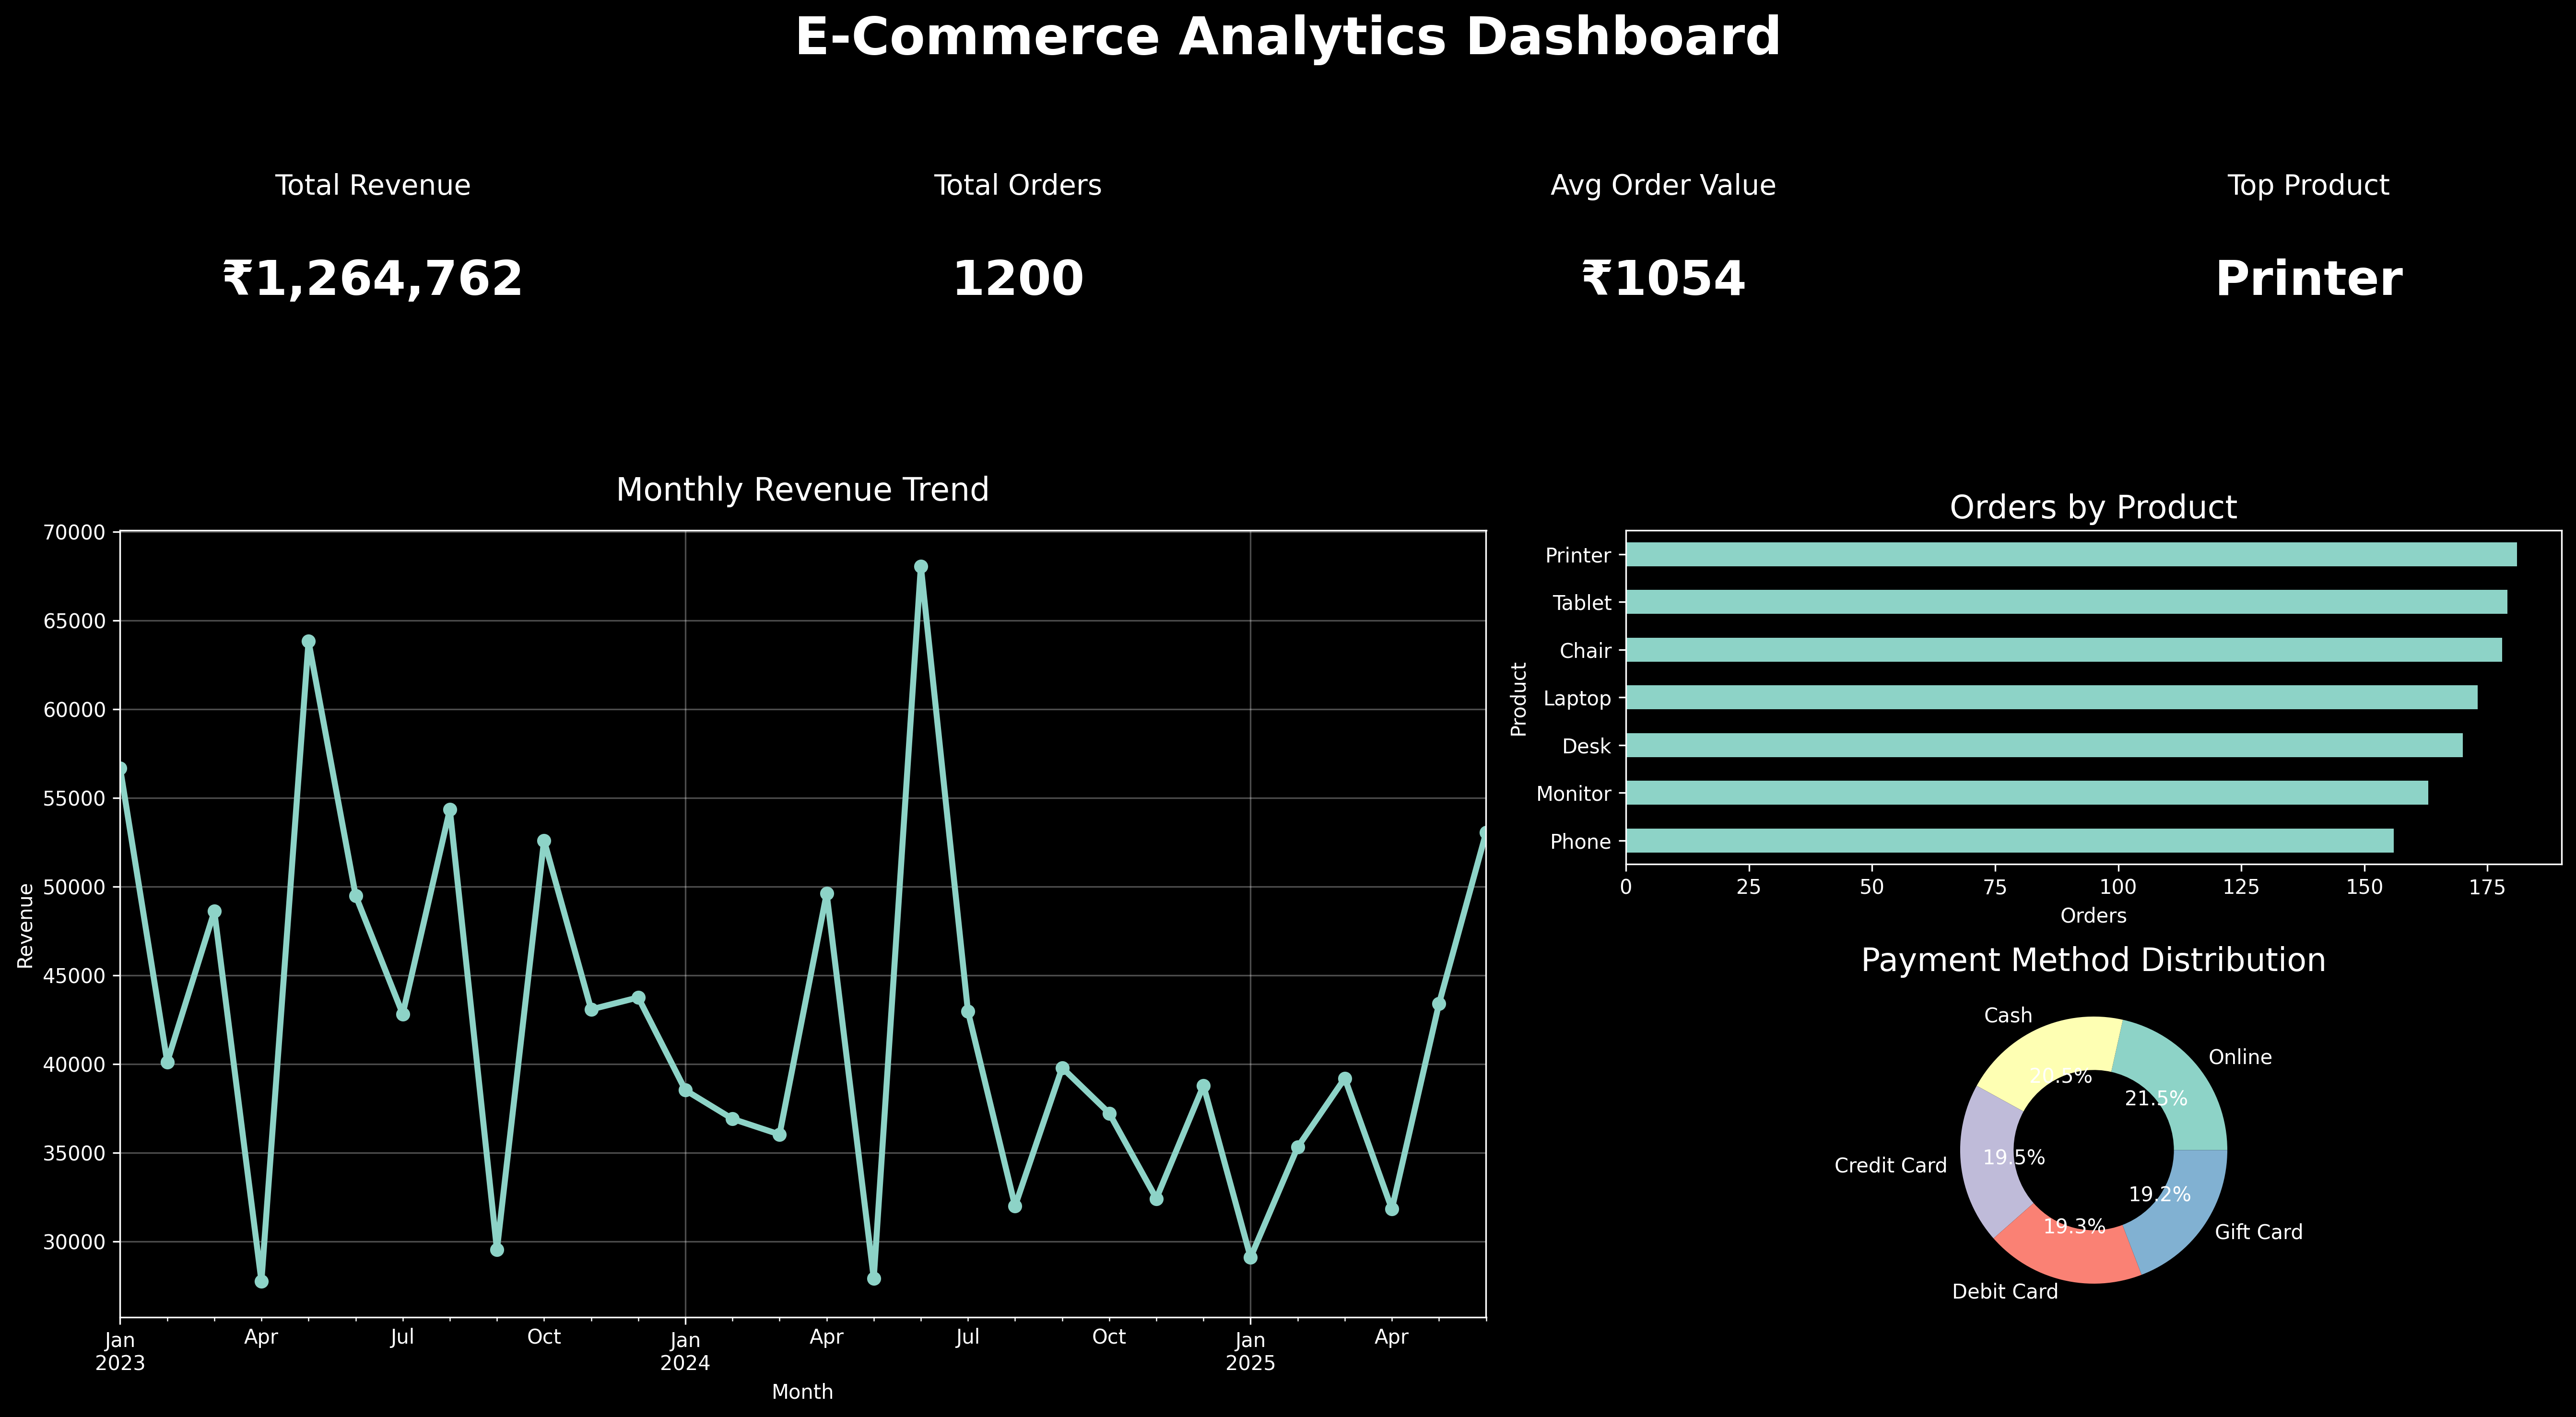

Layout of this report page (visuals, bound fields, positions):
{"tool":"powerbi","page":{"name":"Page 1","canvas":[1280,720],"ordinal":0},"visuals":[{"type":"cardVisual","fields":{"Data":["Sum(Sheet1.TotalPrice)"]},"box":[34.3,88.6,184.3,110],"z":0},{"type":"cardVisual","fields":{"Data":["Sheet1.Total Orders"]},"box":[218.6,88.6,178.6,110],"z":1000},{"type":"cardVisual","fields":{"Data":["Sheet1.Total Customers"]},"box":[380,88.6,237.1,110],"z":2000},{"type":"cardVisual","fields":{"Data":["Sheet1.Quantity Sold"]},"box":[811.4,88.6,225.7,110],"z":3000},{"type":"cardVisual","fields":{"Data":["Sheet1.Average Order Value"]},"box":[580,88.6,262.9,110],"z":4000},{"type":"lineChart","title":"Monthly Revenue Trend","fields":{"Y":["Sum(Sheet1.TotalPrice)"],"Category":["Sheet1.Month Year"]},"box":[0,190,1280,160],"z":5000},{"type":"clusteredBarChart","title":"Top Products by Revenue","fields":{"Category":["Sheet1.Product"],"Y":["Sum(Sheet1.TotalPrice)"]},"box":[0,350,740,370],"z":6000},{"type":"donutChart","title":"Revenue by Payment Method","fields":{"Category":["Sheet1.PaymentMethod"],"Y":["Sum(Sheet1.TotalPrice)"]},"box":[740,532.9,340,187.1],"z":7000},{"type":"donutChart","title":"Revenue by Marketing Channel","fields":{"Category":["Sheet1.ReferralSource"],"Y":["Sum(Sheet1.TotalPrice)"]},"box":[740,350,340,182.9],"z":8000},{"type":"slicer","fields":{"Values":["Sheet1.OrderStatus"]},"box":[1124.3,350,155.7,182.9],"z":9000},{"type":"slicer","fields":{"Values":["Sheet1.PaymentMethod"]},"box":[1124.3,532.9,155.7,187.1],"z":10000},{"type":"textbox","box":[0,0,1280,57.1],"z":11000},{"type":"cardVisual","fields":{"Data":["Sheet1.Average Revenue Per Customer"]},"box":[1002.9,82.9,277.1,115.7],"z":12000},{"type":"textbox","box":[0,47.1,1280,35.7],"z":12001}]}

Visuals, with their boxes in screenshot pixels (x1, y1, x2, y2), scaled from the page's 1280x720 canvas onto the 2576x1417 screenshot:
cardVisual - Sum(Sheet1.TotalPrice): bbox=(69, 175, 440, 391)
cardVisual - Sheet1.Total Orders: bbox=(440, 175, 800, 391)
cardVisual - Sheet1.Total Customers: bbox=(765, 175, 1242, 391)
cardVisual - Sheet1.Quantity Sold: bbox=(1633, 175, 2087, 391)
cardVisual - Sheet1.Average Order Value: bbox=(1167, 175, 1696, 391)
"Monthly Revenue Trend" lineChart: bbox=(0, 374, 2576, 689)
"Top Products by Revenue" clusteredBarChart: bbox=(0, 689, 1489, 1417)
"Revenue by Payment Method" donutChart: bbox=(1489, 1049, 2174, 1417)
"Revenue by Marketing Channel" donutChart: bbox=(1489, 689, 2174, 1049)
slicer - Sheet1.OrderStatus: bbox=(2263, 689, 2576, 1049)
slicer - Sheet1.PaymentMethod: bbox=(2263, 1049, 2576, 1417)
textbox: bbox=(0, 0, 2576, 112)
cardVisual - Sheet1.Average Revenue Per Customer: bbox=(2018, 163, 2576, 391)
textbox: bbox=(0, 93, 2576, 163)
